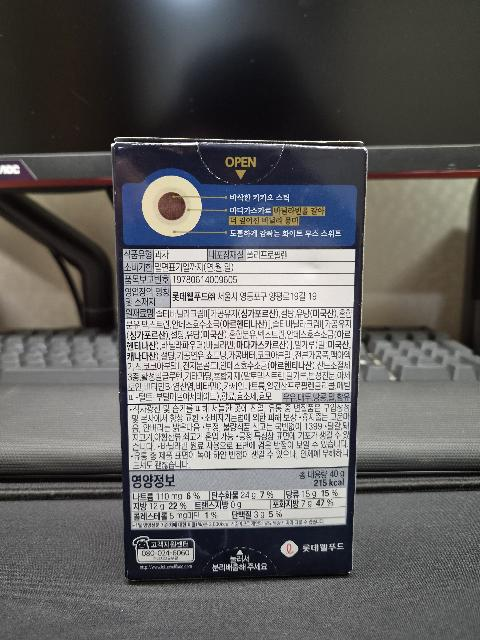pepero: (111, 137, 368, 582)
